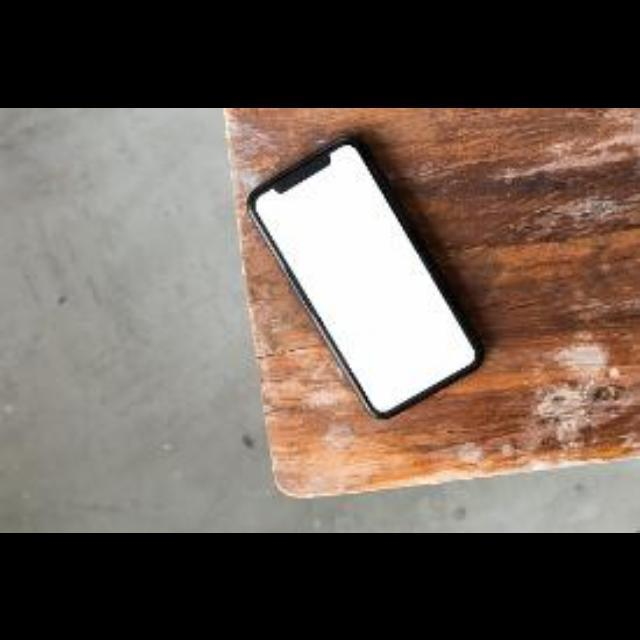PhoneUse: (236, 141, 487, 417)
